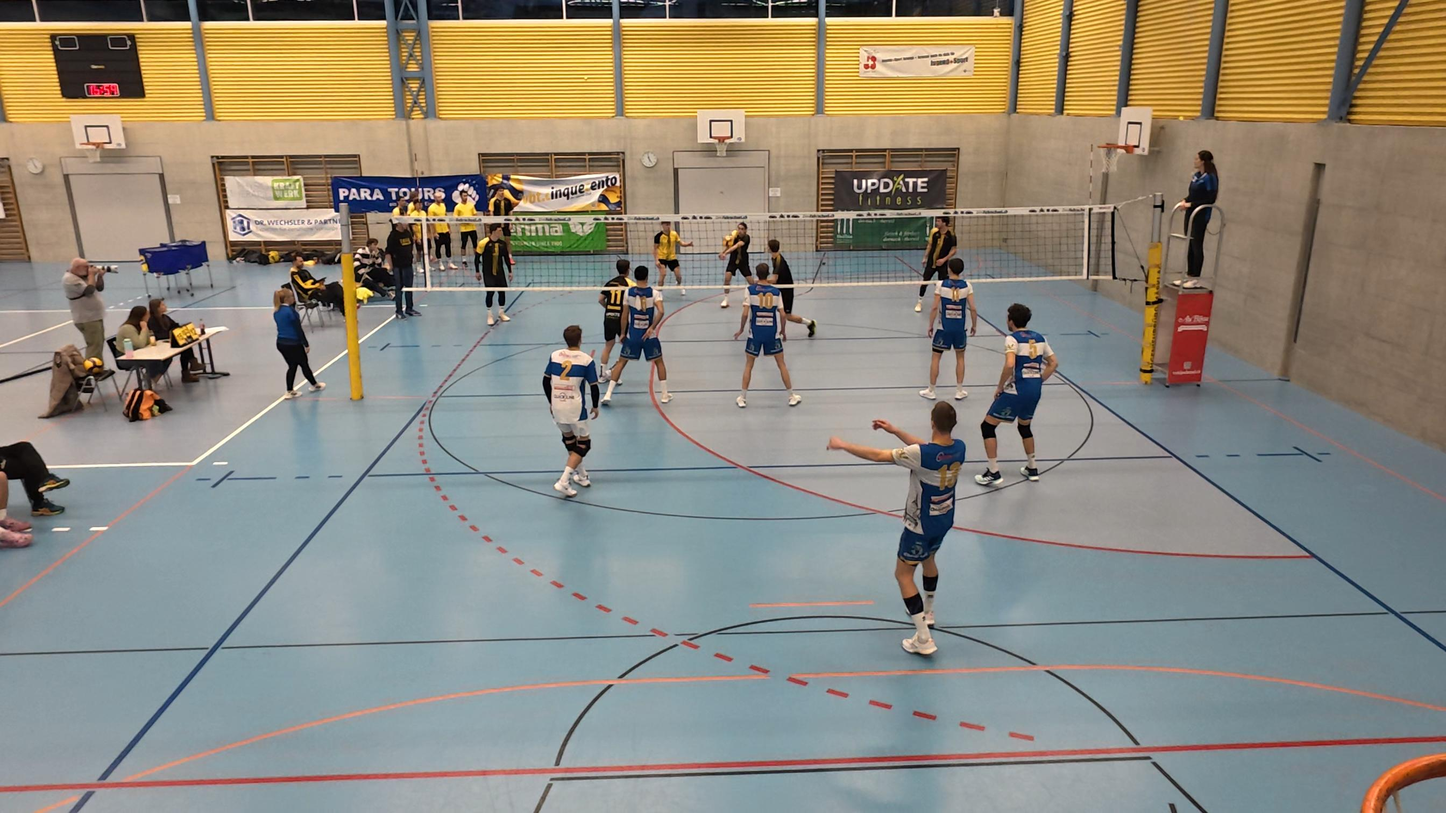Player: (821, 396, 969, 670), (976, 304, 1052, 490), (543, 323, 603, 498), (596, 272, 671, 408), (735, 270, 802, 408), (923, 262, 980, 403), (767, 246, 817, 341), (476, 218, 518, 327), (910, 215, 955, 311), (594, 264, 634, 372), (654, 219, 684, 301)
Receive: (718, 222, 755, 301)
ball: (720, 231, 734, 246)
